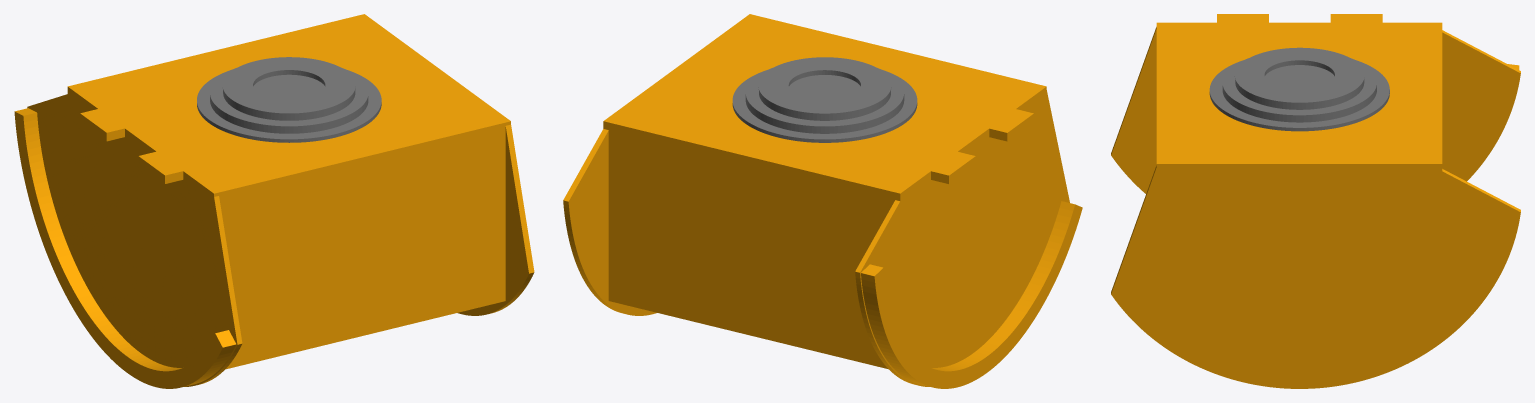
3 views of the same model, side by side, from view 1: azimuth 30°, elevation 25°; view 2: azimuth 150°, elevation 25°; view 3: azimuth 270°, elevation 25° (orthographic). The views are drawn at different scales.
Parts seen in each view (by area): view 1: e1_nx; view 2: e1_nx; view 3: e1_nx.
Boxes of the visible parts, <box> form: e1_nx: <box>14,14,534,388</box>; e1_nx: <box>563,14,1082,388</box>; e1_nx: <box>1111,14,1520,388</box>.
Size of the model in its own units: 0.955 by 1.1 by 0.722.
